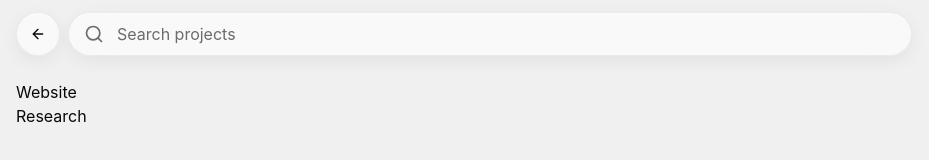
Workspace page navigation and project search › filters projects with top search and restores all projects when returning
Type "web" into the search field labelled "Search projects".
click(490, 34); type("web")  # box [68,12,912,56]
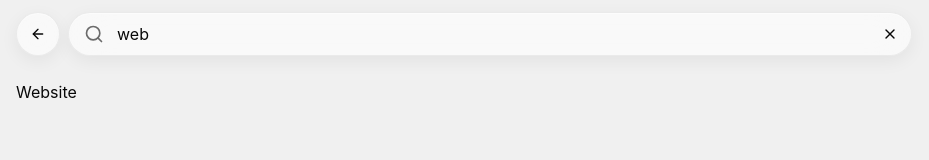
Expected: the text "Website" is shown, [16,82,77,102]
Result: the text "Research" is gone
Click the button named "Back to Projects".
click(38, 34)  # box [16,12,60,56]
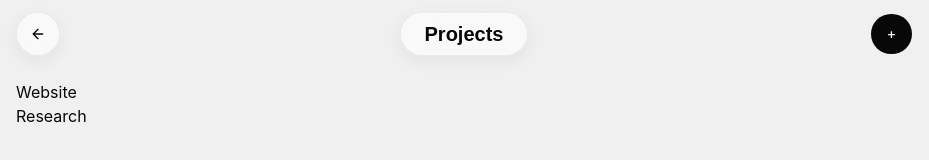
Result: the text "Research" is shown at [16,106,87,126]
